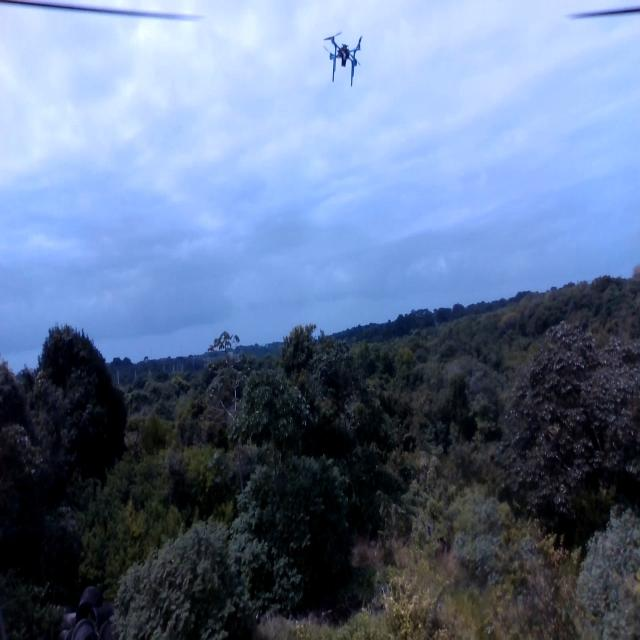-uav-: (316, 17, 368, 92)
